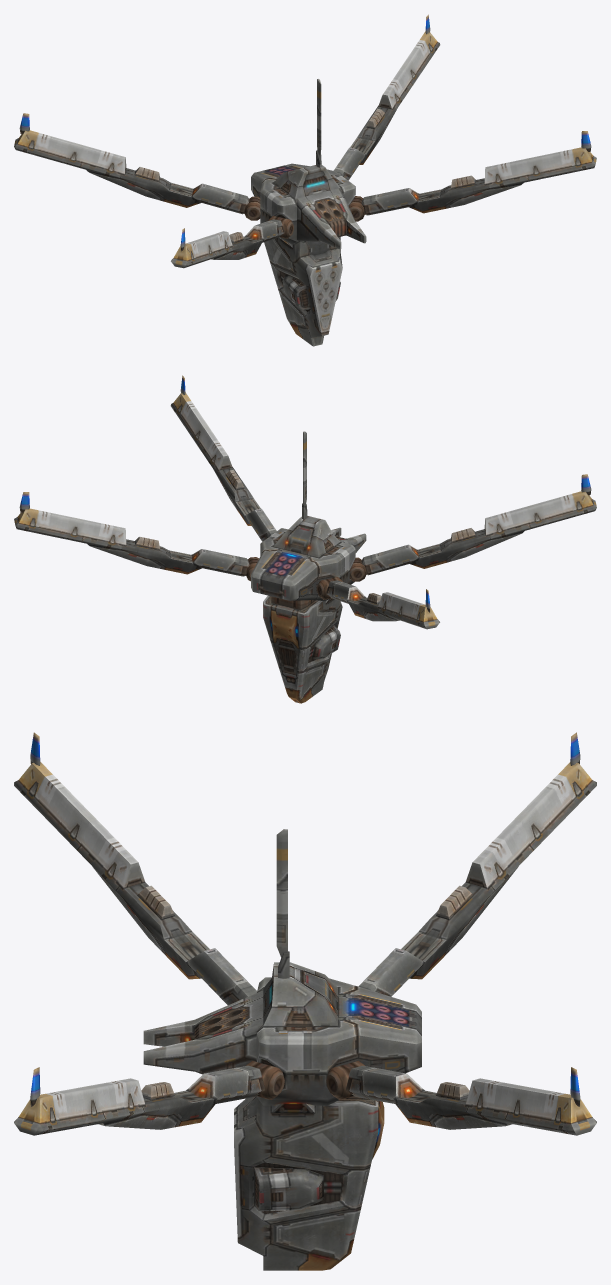
Rendered from tr1_pf_beac_01.glb.
The picture shows the model from 3 angles, top to bottom: view 1: azimuth 30°, elevation 25°; view 2: azimuth 150°, elevation 25°; view 3: azimuth 270°, elevation 25°; orthographic projection. The views are drawn at different scales.
Parts seen in each view (by area): view 1: hs_nav_beacon_01_LOD0; view 2: hs_nav_beacon_01_LOD0; view 3: hs_nav_beacon_01_LOD0.
Boxes of the visible parts, x1,y1,x2,y2 form: hs_nav_beacon_01_LOD0: [14, 14, 596, 346]; hs_nav_beacon_01_LOD0: [14, 375, 596, 703]; hs_nav_beacon_01_LOD0: [14, 732, 596, 1270].
Size of what is drawn, in the model's own units: 3.39 by 1.97 by 2.35.
1 material, 1 textured.
